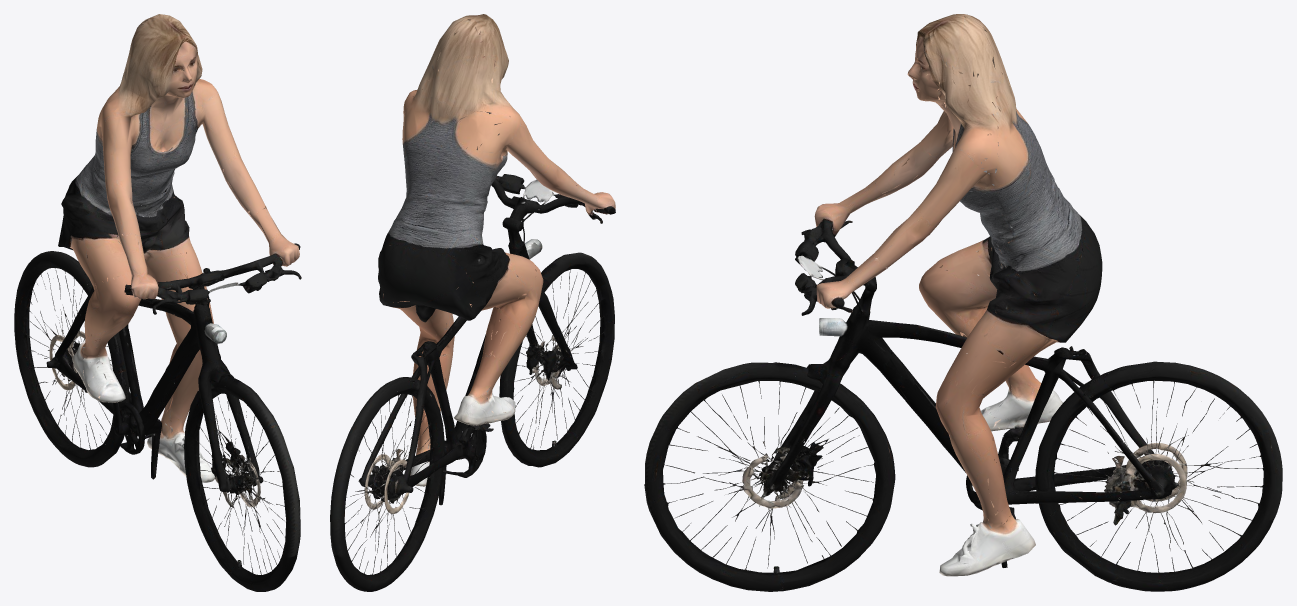
File: cycling.glb
3 views of the same model, side by side, from view 1: azimuth 30°, elevation 25°; view 2: azimuth 150°, elevation 25°; view 3: azimuth 270°, elevation 25° (orthographic). The views are drawn at different scales.
Parts seen in each view (by area): view 1: Object_7, Object_9, Object_6, Object_5, Object_8, Object_10; view 2: Object_9, Object_7, Object_8, Object_6, Object_5, Object_10; view 3: Object_9, Object_7, Object_6, Object_8, Object_5, Object_10.
Part boxes in pixels (x1,y1,x2,y2): Object_7: [58, 14, 266, 482]; Object_9: [57, 44, 210, 457]; Object_6: [119, 48, 301, 576]; Object_5: [152, 272, 300, 591]; Object_8: [14, 251, 111, 467]; Object_10: [87, 14, 202, 479]; Object_9: [365, 56, 537, 538]; Object_7: [378, 14, 577, 559]; Object_8: [330, 379, 425, 591]; Object_6: [453, 27, 615, 467]; Object_5: [508, 174, 614, 462]; Object_10: [403, 19, 537, 505]; Object_9: [937, 51, 1156, 568]; Object_7: [873, 14, 1131, 582]; Object_6: [780, 51, 946, 591]; Object_8: [1101, 361, 1282, 591]; Object_5: [644, 231, 822, 591]; Object_10: [938, 14, 1008, 567].
Bounding box in the file's own units: 0.6866 × 1.89 × 1.9.
Materials: 1 (1 with a texture image).
